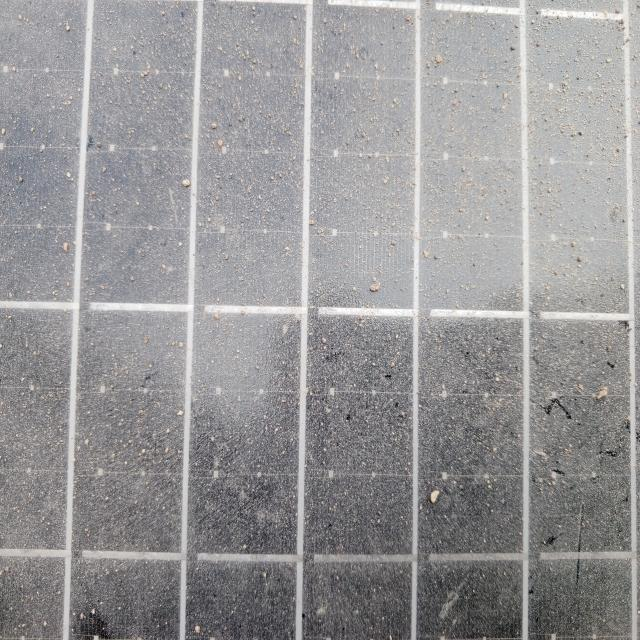Surface Contaminant: (10, 17, 624, 623)
